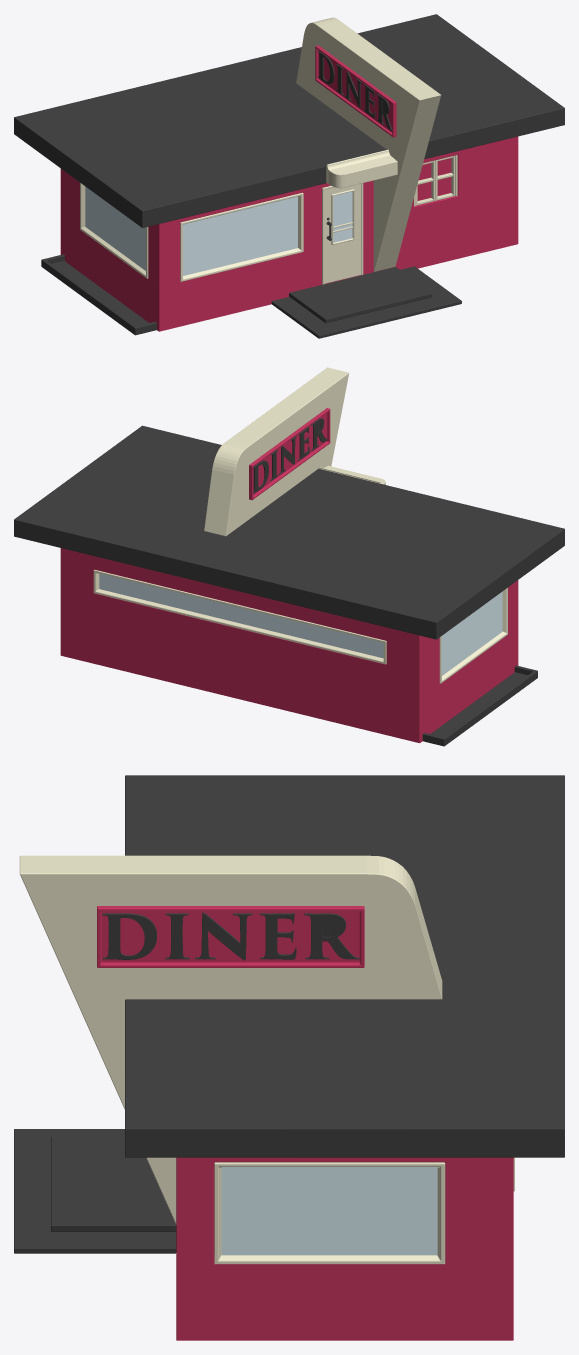
File: building_diner.glb
The picture shows the model from 3 angles, top to bottom: view 1: azimuth 30°, elevation 25°; view 2: azimuth 150°, elevation 25°; view 3: azimuth 270°, elevation 25°; orthographic projection. The views are drawn at different scales.
Size of the model in its own units: 0.0366 by 0.0176 by 0.0241.
4 materials, 4 textured.
